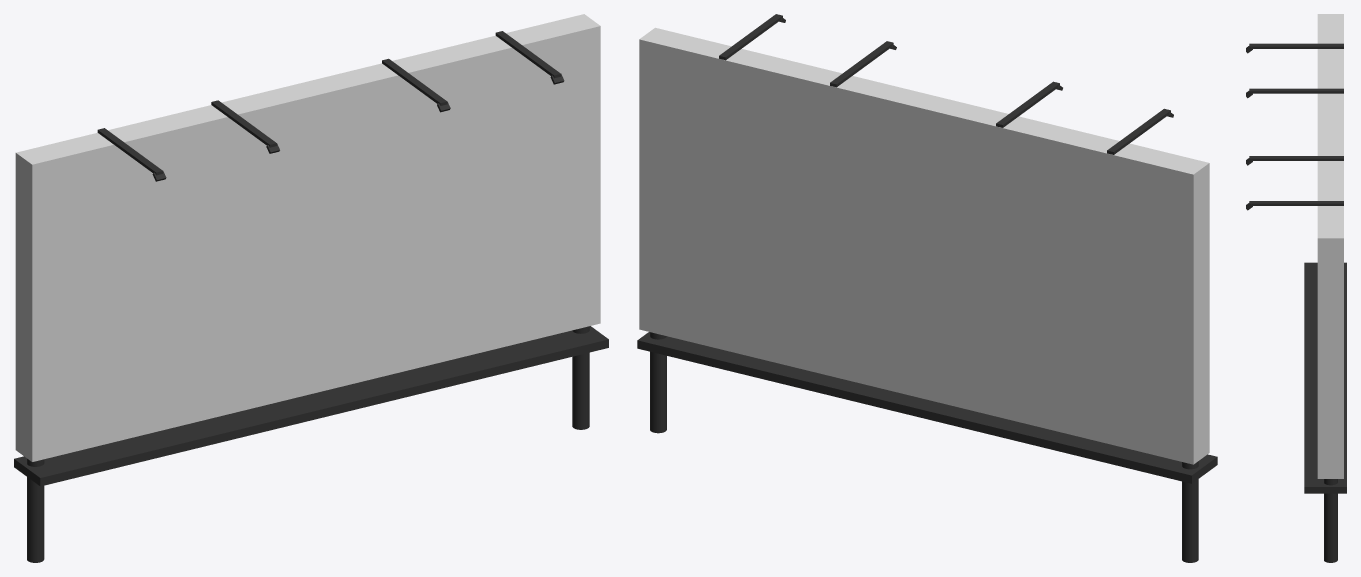
The model's file is credit.obj.
3 views of the same model, side by side, from view 1: azimuth 30°, elevation 25°; view 2: azimuth 150°, elevation 25°; view 3: azimuth 270°, elevation 25° (orthographic). The views are drawn at different scales.
Parts seen in each view (by area): view 1: Cube; view 2: Cube; view 3: Cube.
Part boxes in pixels (x1,y1,x2,y2): Cube: (14,14,608,562); Cube: (637,14,1217,562); Cube: (1246,14,1346,562).
Size of the model in its own units: 20 by 13.66 by 3.8.
Materials: 2 (2 with a texture image).
